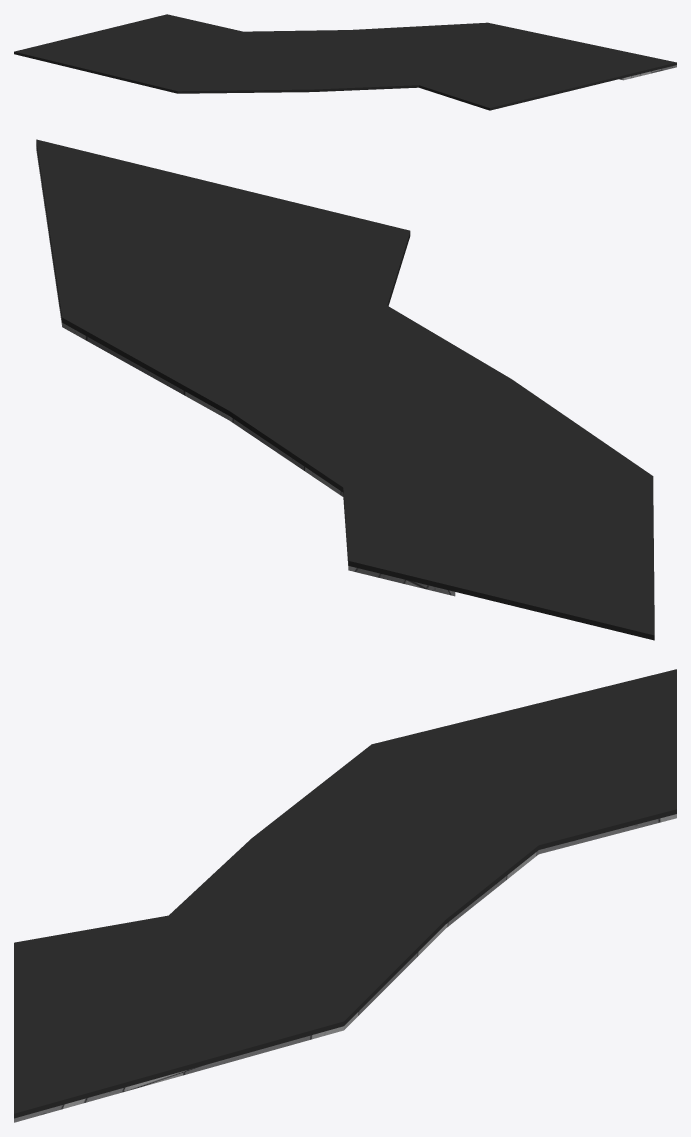
Rendered from road flip.FBX.
3 views of the same model, one above another, from view 1: azimuth 30°, elevation 25°; view 2: azimuth 150°, elevation 25°; view 3: azimuth 270°, elevation 25° (orthographic). The views are drawn at different scales.
Visible parts, largest first — view 1: Box017; view 2: Box017; view 3: Box017.
Boxes of the visible parts, <box> form: Box017: <box>14,14,676,110</box>; Box017: <box>36,139,654,640</box>; Box017: <box>14,669,676,1122</box>.
Bounding box in the file's own units: 30.48 × 0.2888 × 19.2.
Materials: 1 (1 with a texture image).
